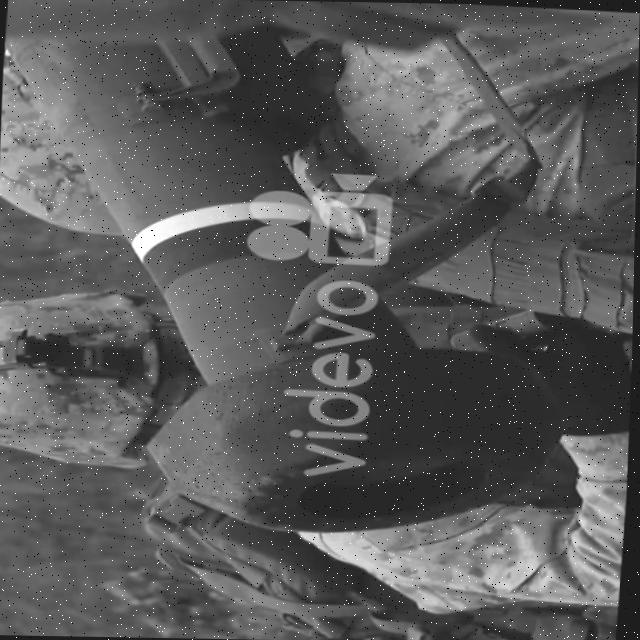rocket: (0, 10, 572, 546)
